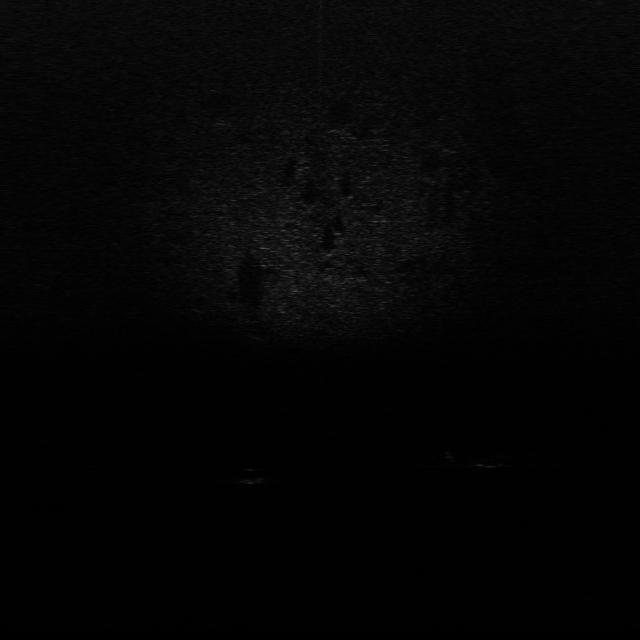ball: (239, 463, 272, 486)
human body: (431, 446, 528, 470)
